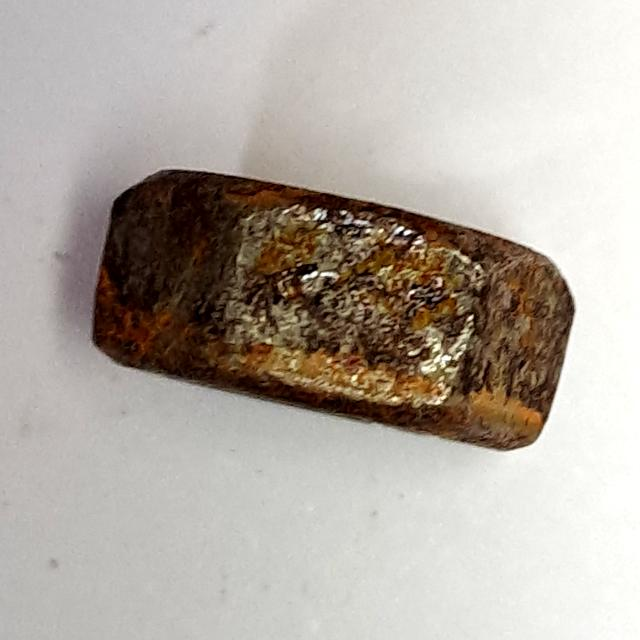Side_Rust: (81, 153, 594, 466)
